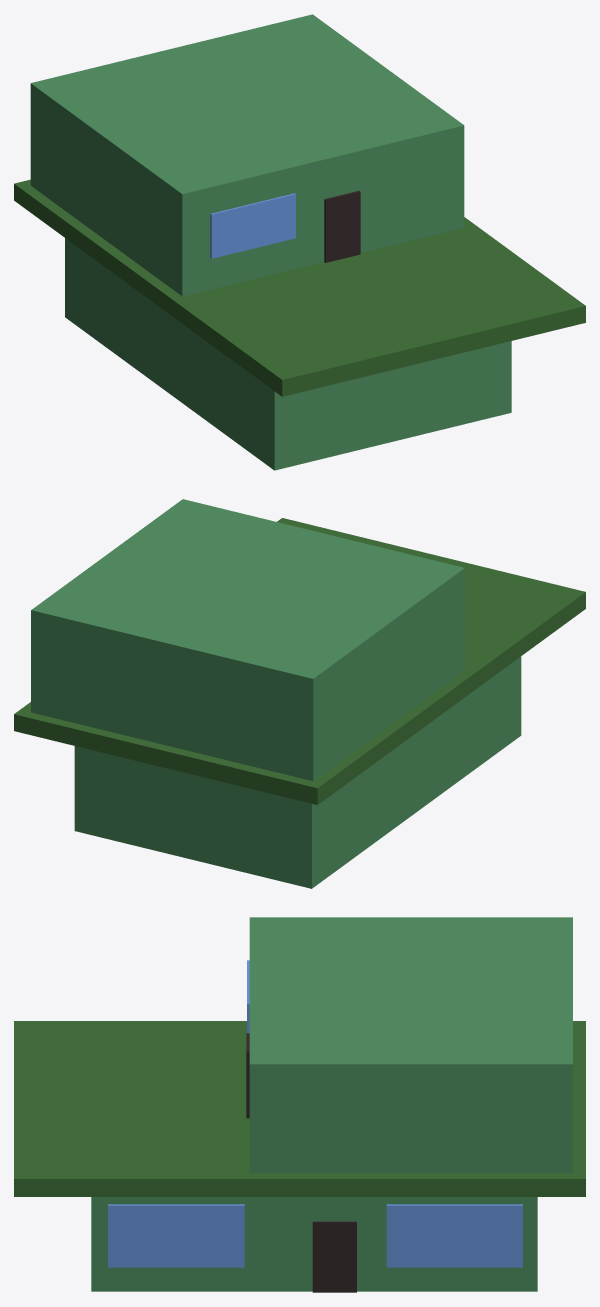
Rendered from House_Green.fbx.
3 views of the same model, one above another, from view 1: azimuth 30°, elevation 25°; view 2: azimuth 150°, elevation 25°; view 3: azimuth 270°, elevation 25° (orthographic). The views are drawn at different scales.
Visible parts, largest first — view 1: Cube.004, Cube.003, Cube.002, Window_2.001, Door_2.001; view 2: Cube.004, Cube.002, Cube.003; view 3: Cube.004, Cube.003, Cube.002, Window_1.001, Window_1.002, Door_1.001.
Boxes of the visible parts, x1,y1,x2,y2 form: Cube.004: (30,14,464,296); Cube.003: (14,179,585,396); Cube.002: (65,238,511,470); Window_2.001: (210,193,295,258); Door_2.001: (324,190,360,262); Cube.004: (31,499,464,780); Cube.002: (74,656,521,888); Cube.003: (14,518,585,804); Cube.004: (249,917,572,1173); Cube.003: (14,1021,585,1196); Cube.002: (91,1197,537,1291); Window_1.001: (108,1204,244,1267); Window_1.002: (386,1204,522,1267); Door_1.001: (312,1221,356,1292).
Bounding box in the file's own units: 3039 × 2165 × 4649.
